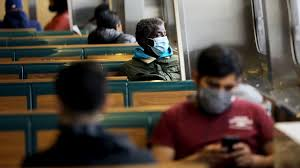with_mask: (196, 73, 237, 113), (144, 28, 170, 57)
